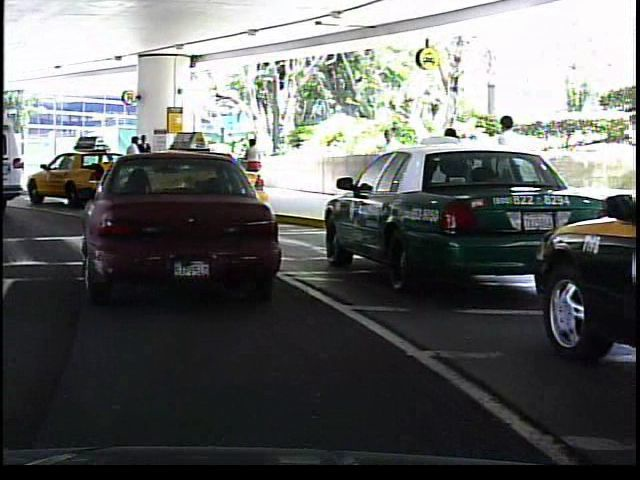person: (486, 110, 533, 230), (428, 116, 476, 225), (372, 119, 406, 202), (242, 134, 265, 192), (122, 133, 143, 189), (137, 129, 155, 187)
